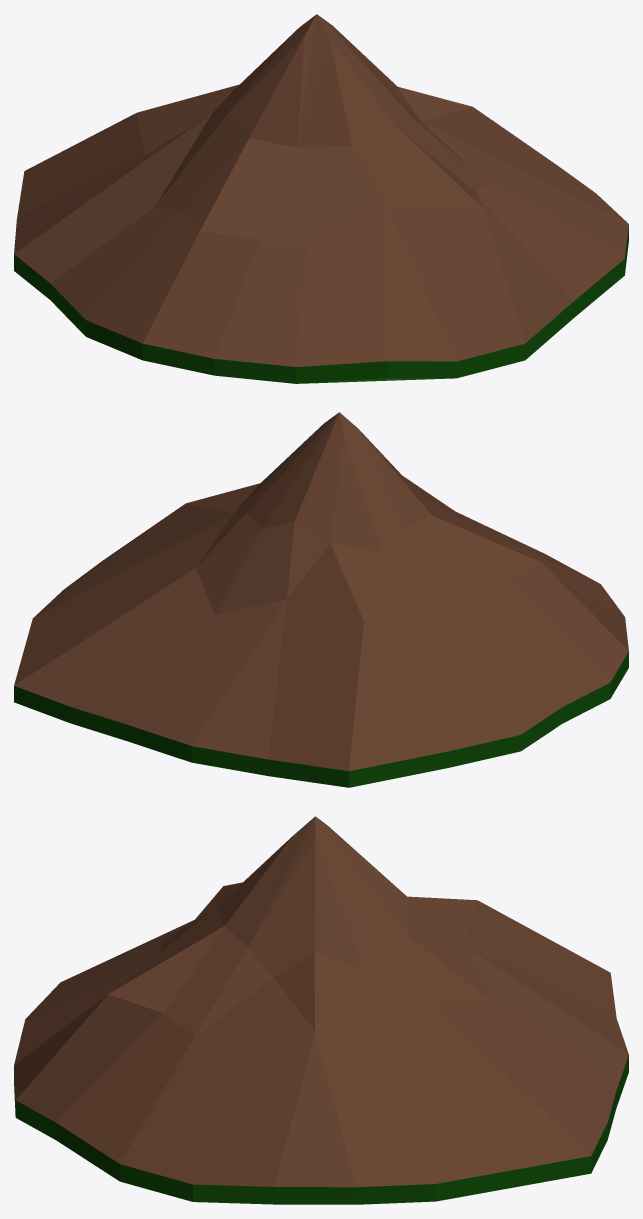
The model's file is Plataforma.fbx.
3 renders of one model, top to bottom at view 1: azimuth 30°, elevation 25°; view 2: azimuth 150°, elevation 25°; view 3: azimuth 270°, elevation 25°, orthographic. The views are drawn at different scales.
Parts seen in each view (by area): view 1: Cylinder; view 2: Cylinder; view 3: Cylinder.
Boxes of the visible parts, x1=… form: Cylinder: x1=14, y1=14, x2=628, y2=383; Cylinder: x1=14, y1=412, x2=628, y2=787; Cylinder: x1=14, y1=816, x2=628, y2=1204.
Size of the model in its own units: 2133 by 1024 by 2123.
Materials: 1 (1 with a texture image).
